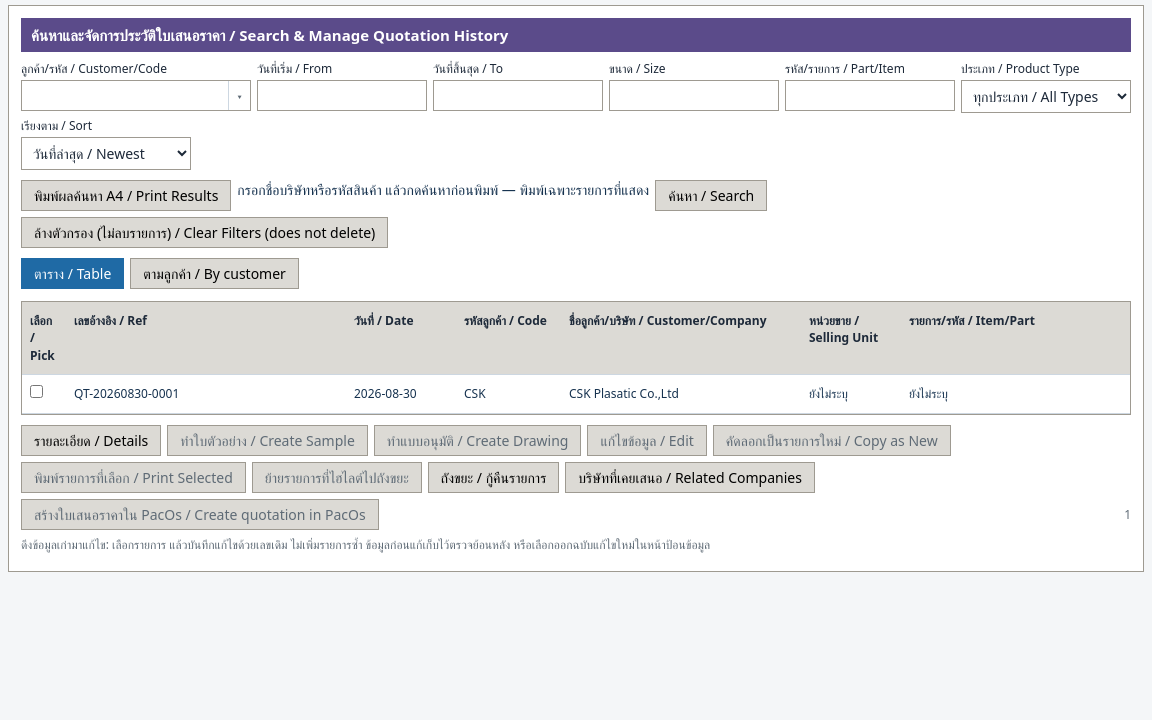
Test case: deleting a quotation from history › a quotation a COA uses: the dialog names the COA
This screenshot has width=1152, height=720.
Click the text "CSK Plasatic Co.,Ltd".
click(681, 394)  # box [561,375,801,413]
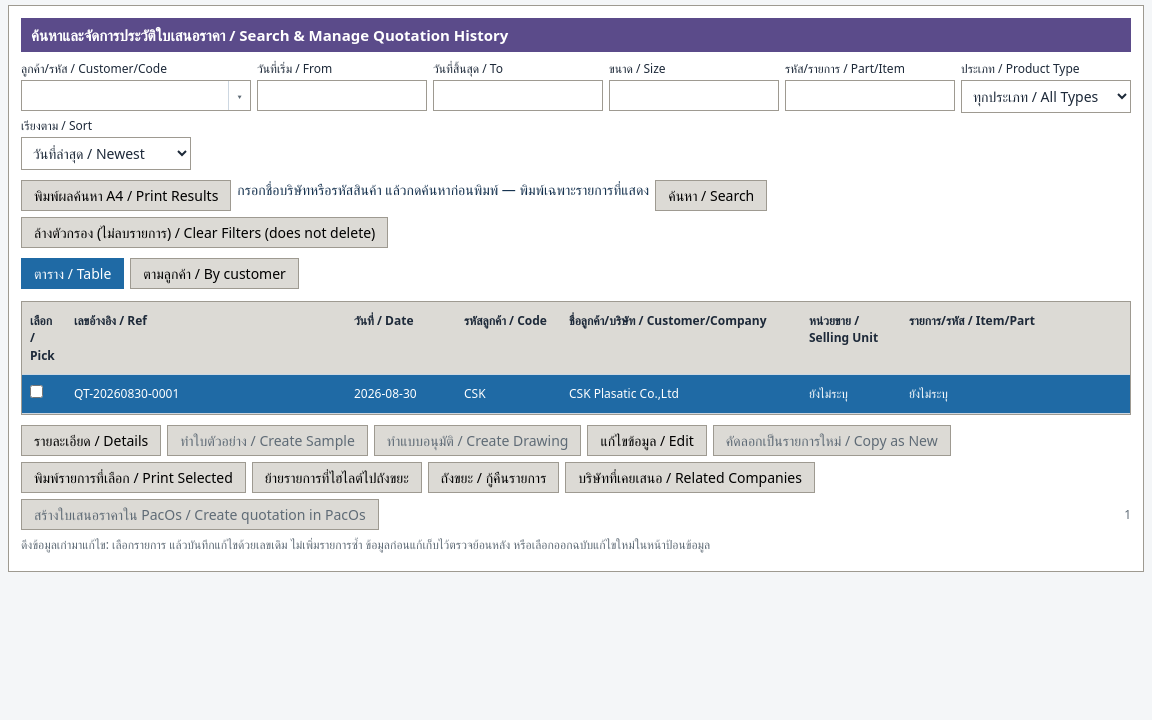
Click the button "ย้ายรายการที่ไฮไลต์ไปถังขยะ".
click(337, 477)  # box [252,462,422,493]
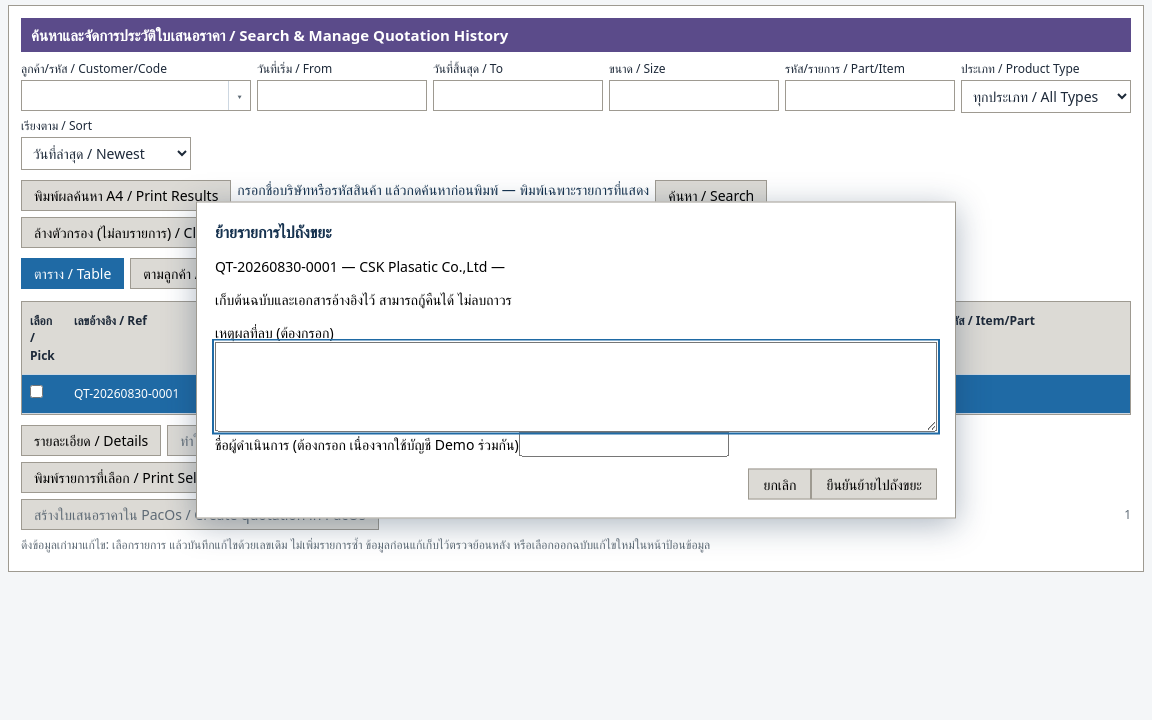
Type "ราคาผิด" into the text box labelled "เหตุผลที่ลบ (ต้องกรอก)".
click(576, 386); type("ราคาผิด")  # box [215,342,937,432]
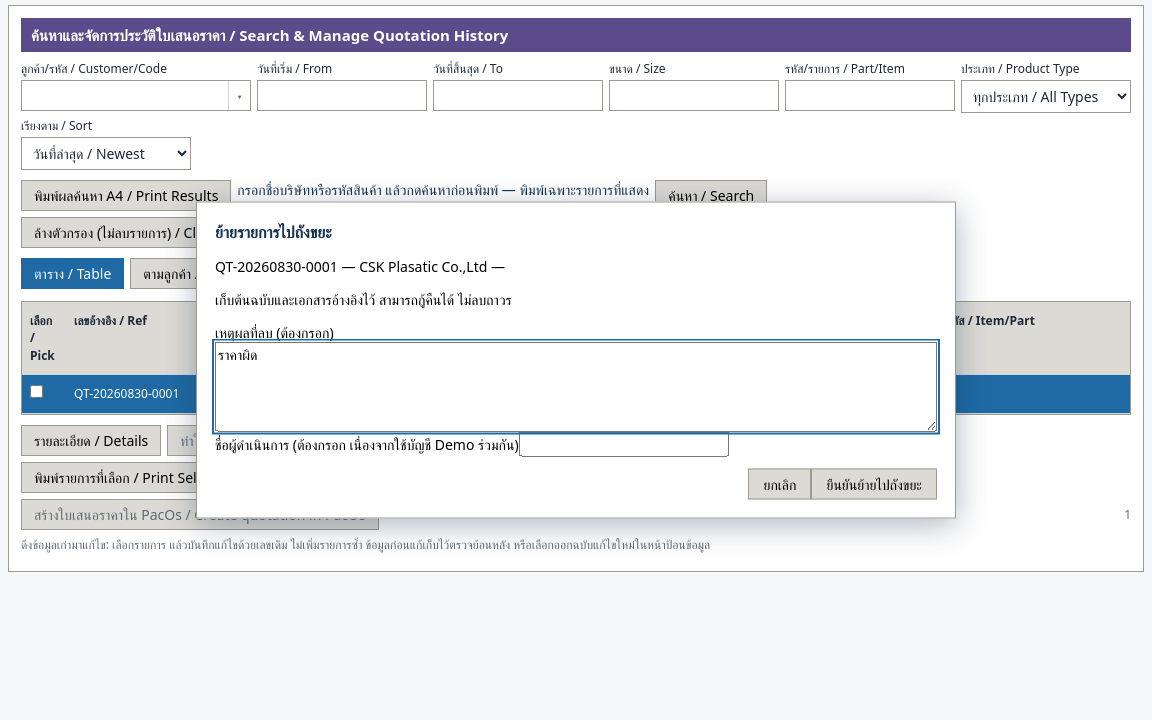
Type "Somchai" into the field labelled "ชื่อผู้ดำเนินการ (ต้องกรอก เนื่องจากใช้บัญชี Demo ร่วมกัน)".
click(624, 444); type("Somchai")  # box [519,432,729,456]
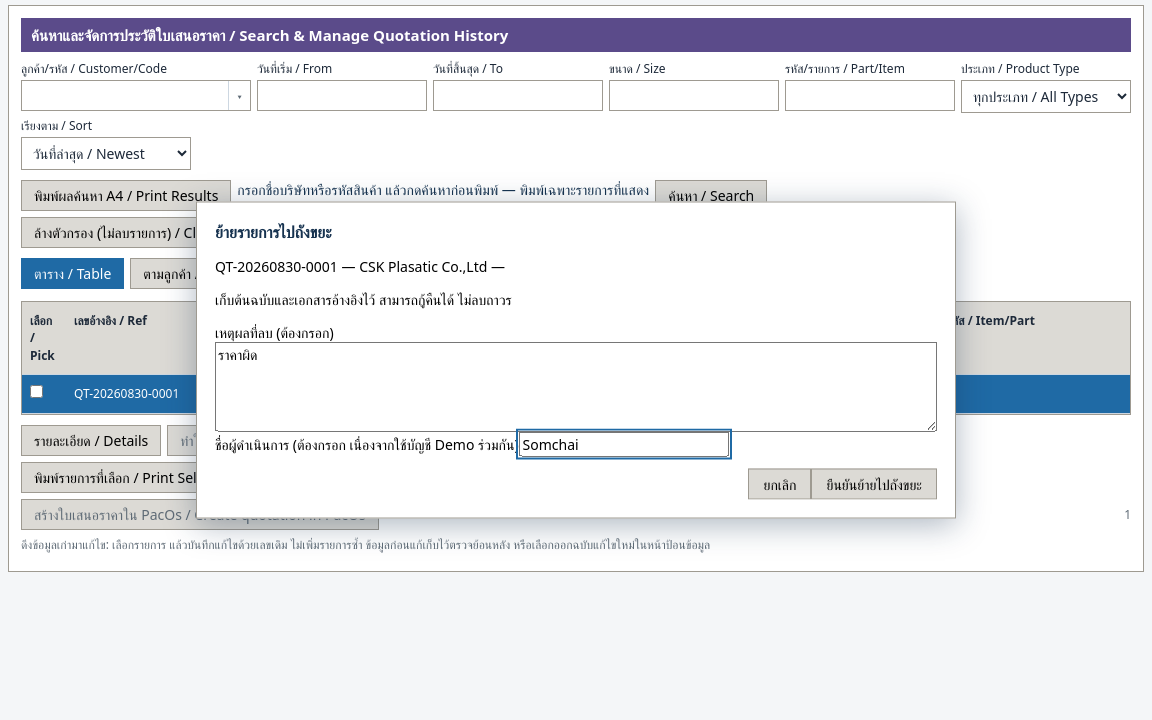
Click the button "ยืนยันย้ายไปถังขยะ".
click(874, 484)  # box [812,468,937,500]
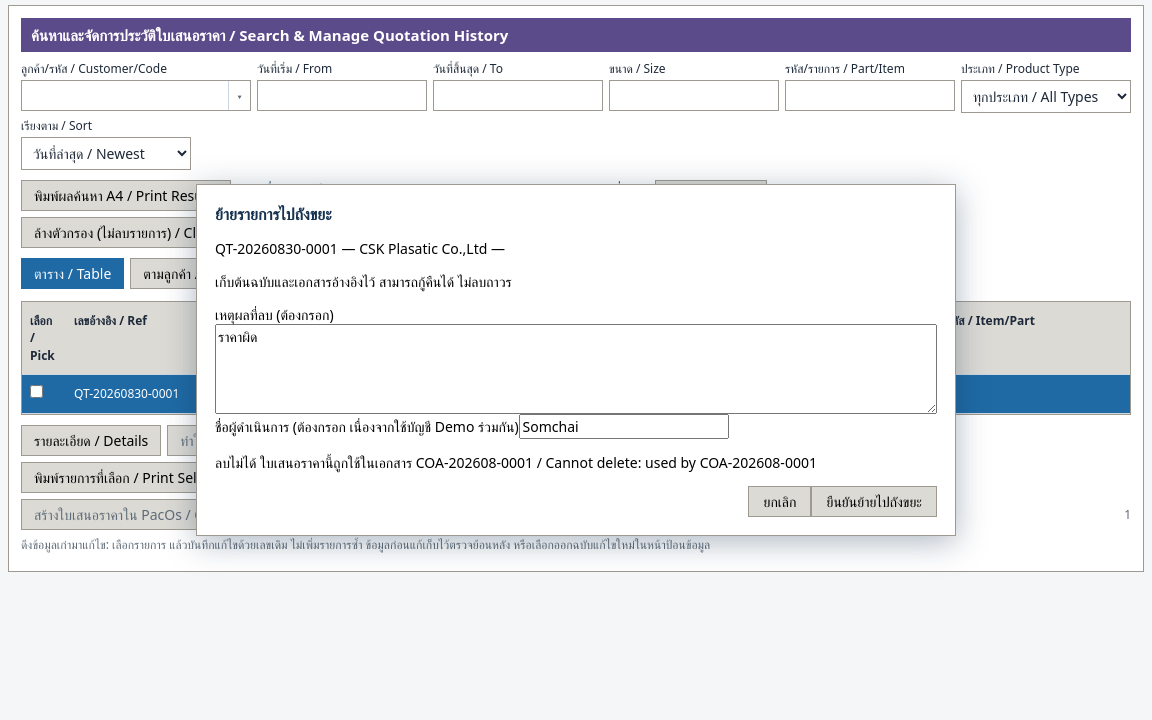
Check: the message shows "ลบไม่ได้ ใบเสนอราคานี้ถูกใช้ในเอกสาร COA-202608-0001 / Cannot delete: used by COA-202608-0001", box [215,453,817,472]
